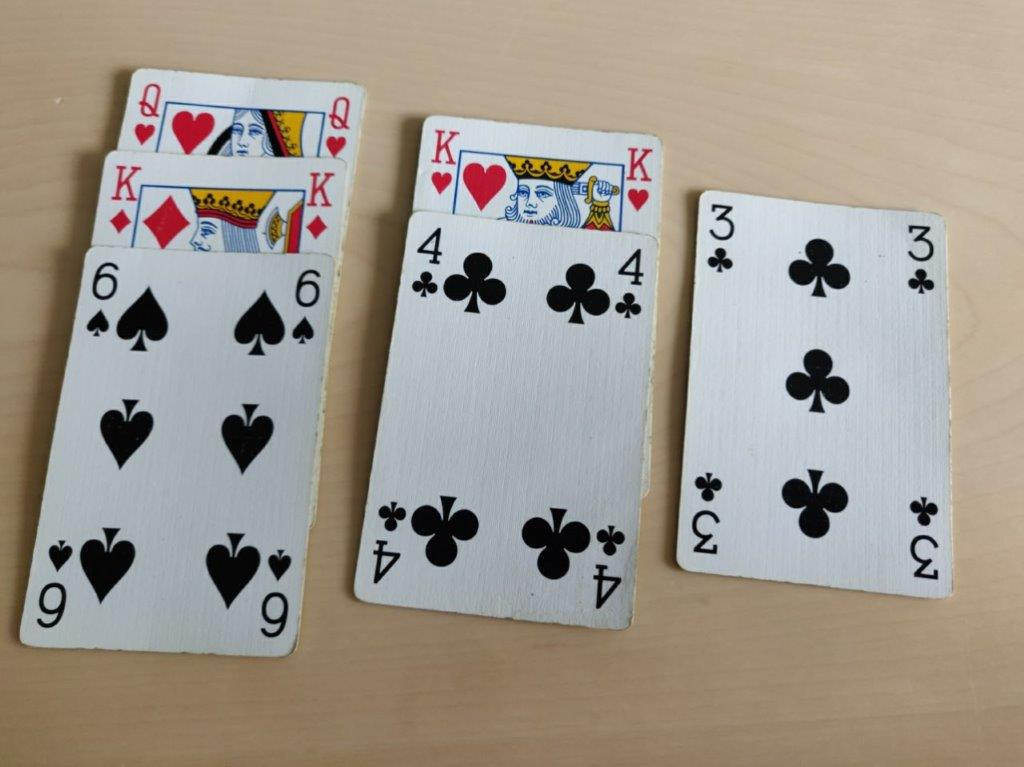3C: (704, 197, 739, 281), (902, 218, 937, 302)
4C: (406, 223, 445, 302), (611, 245, 650, 324)
6S: (78, 256, 120, 345), (285, 263, 327, 352)
KD: (105, 160, 143, 237), (299, 170, 337, 247)
KH: (424, 121, 461, 201), (623, 140, 660, 220)
QH: (128, 77, 169, 149), (317, 88, 355, 160)
